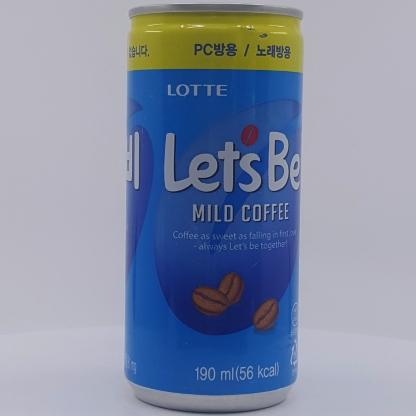------190ml: (123, 2, 304, 413)
